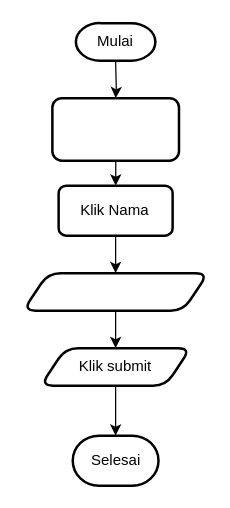
The diagram is 230 pixels wide and 508 high, and some of its shapes have lost their labels. Each missing label, with the centre of its shape:
Klik Absensi sesuai dengan jabatan: (115,128)
Pilih nama diri sendiri: (115,291)
